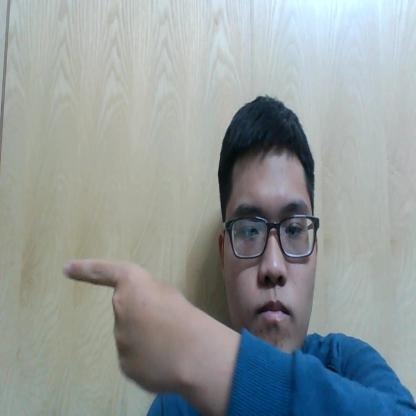right: (60, 240, 214, 412)
